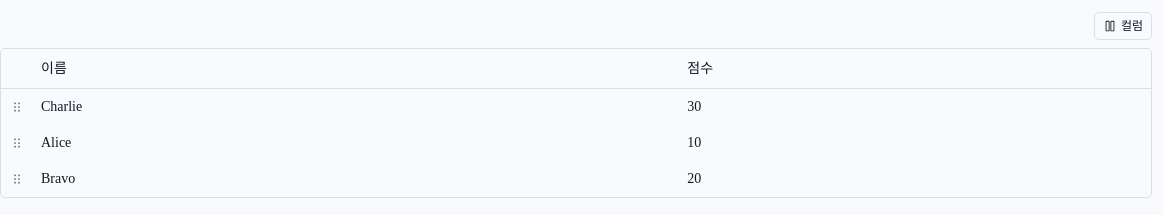
Test case: TableSortable › disables the row drag handle while a column sort is active
This screenshot has width=1164, height=215.
What coordinates should you click on to do the following:
click the button "이름"
I would click on:
 (54, 68)
Its box is top-left (41, 58), bottom-right (67, 78).
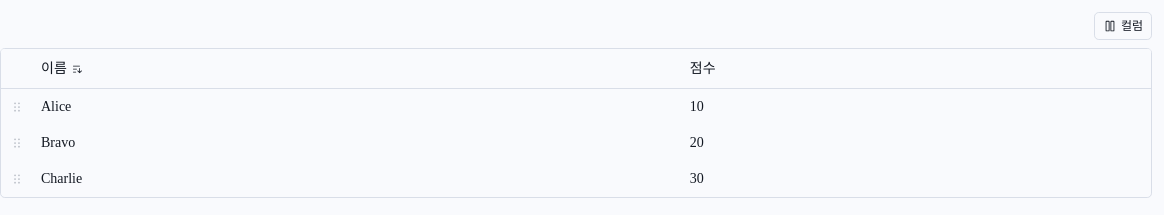
Expected: the button named "행 순서 변경 핸들" next to "Alice" is disabled, top-left (5, 95), bottom-right (29, 119)
Expected: the button named "행 순서 변경 핸들" next to "Bravo" is disabled, top-left (5, 131), bottom-right (29, 155)
Expected: the button named "행 순서 변경 핸들" next to "Charlie" is disabled, top-left (5, 167), bottom-right (29, 191)
